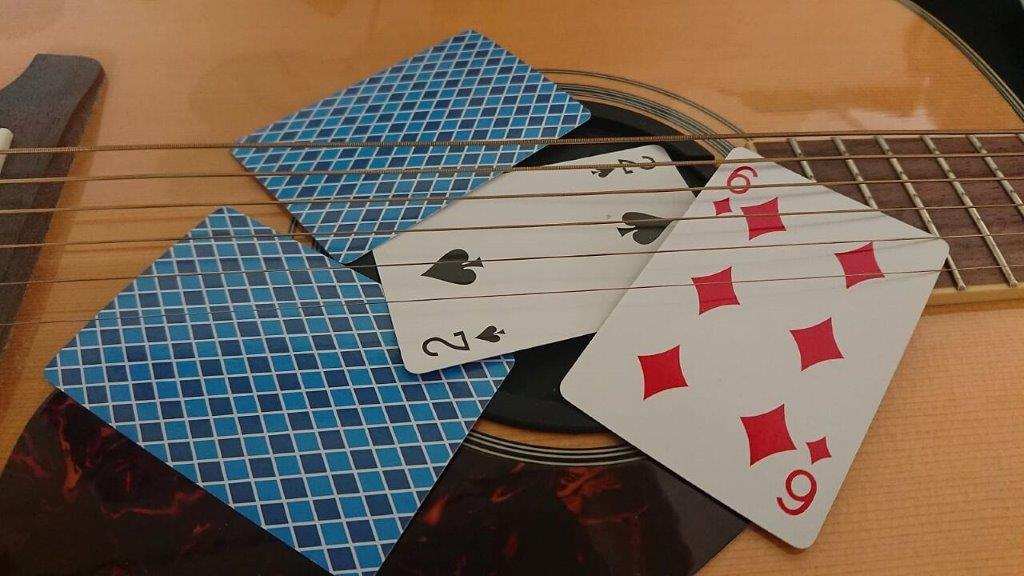6D: (710, 158, 764, 228)
BACK: (41, 374, 508, 576), (228, 29, 592, 264)
